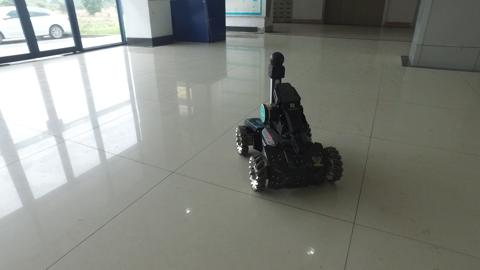car: (1, 4, 73, 42)
chariot: (234, 50, 344, 194)
